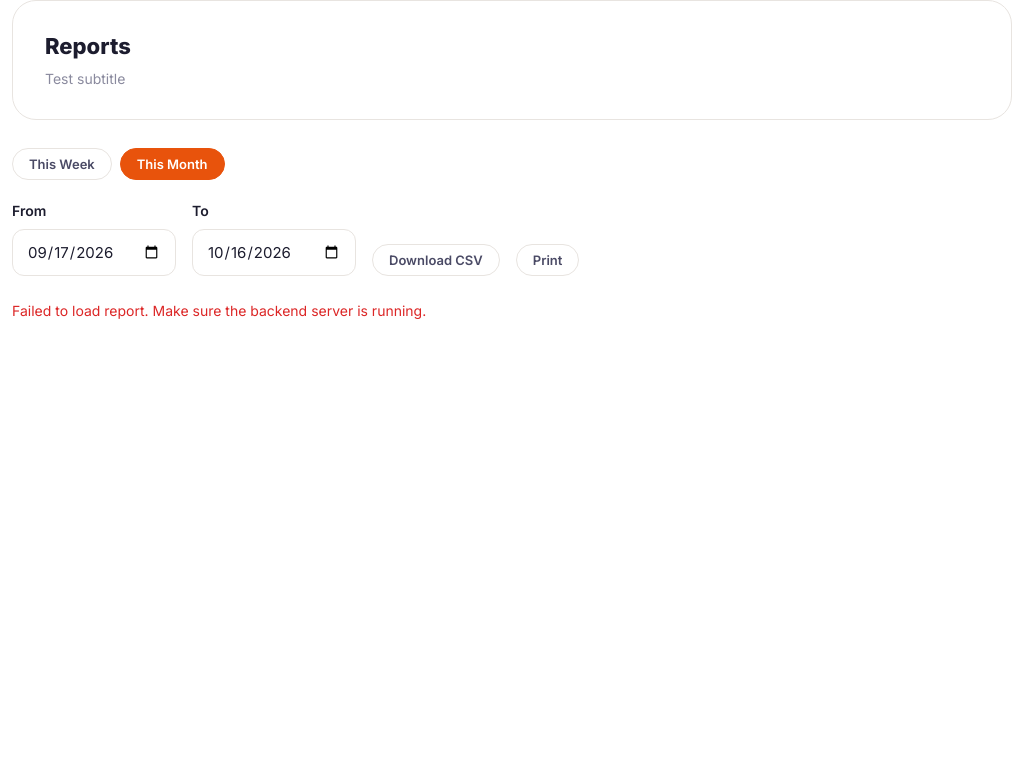
Test: clears the error after a later successful fetch
Expected: the text "Failed to load report" is shown, [12,302,426,319]
What coordinates should you click on to do the following:
click the button "This Week"
I would click on:
 (62, 164)
Its box is [12,148,112,180].
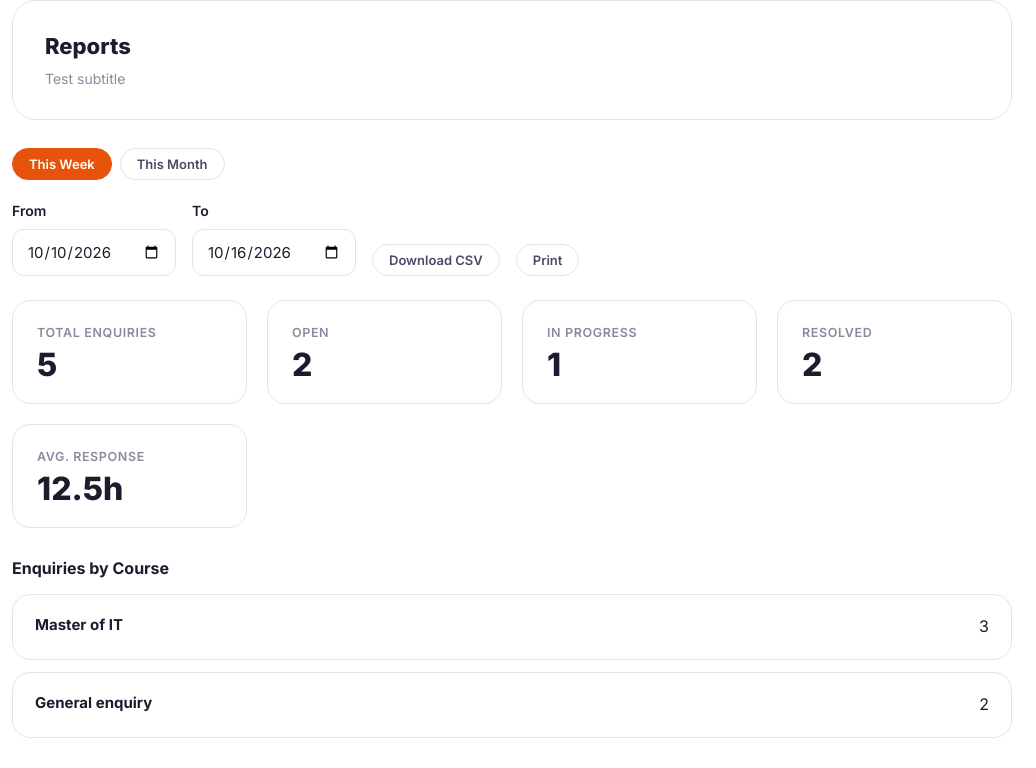
Result: the text "12.5h" is shown at [37,469,123,508]
Result: the text "Failed to load report" is gone
